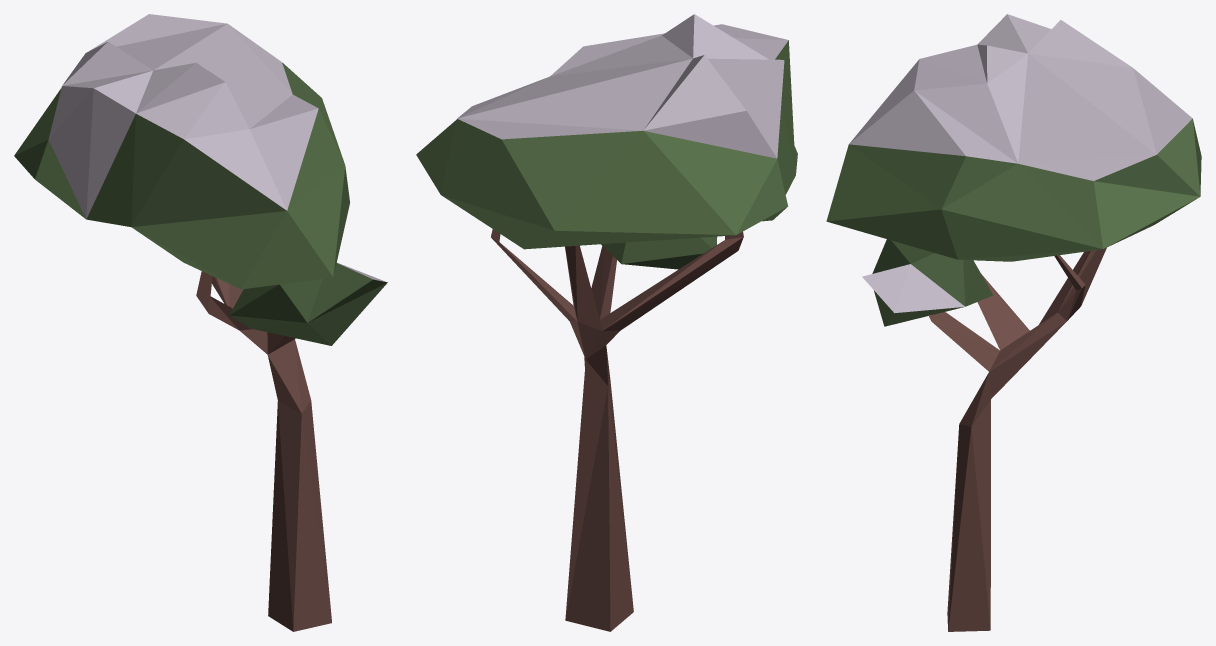
The model's file is CommonTree_Snow_4.lod3.glb.
3 renders of one model, left to right at view 1: azimuth 30°, elevation 25°; view 2: azimuth 150°, elevation 25°; view 3: azimuth 270°, elevation 25°, orthographic. The views are drawn at different scales.
Visible parts, largest first — view 1: CommonTree_Snow_4; view 2: CommonTree_Snow_4; view 3: CommonTree_Snow_4.
Part boxes in pixels (x1=…): CommonTree_Snow_4: x1=14, y1=14, x2=387, y2=631; CommonTree_Snow_4: x1=416, y1=14, x2=797, y2=631; CommonTree_Snow_4: x1=826, y1=14, x2=1201, y2=631.
Size of the model in its own units: 1.58 by 2.81 by 1.77.
